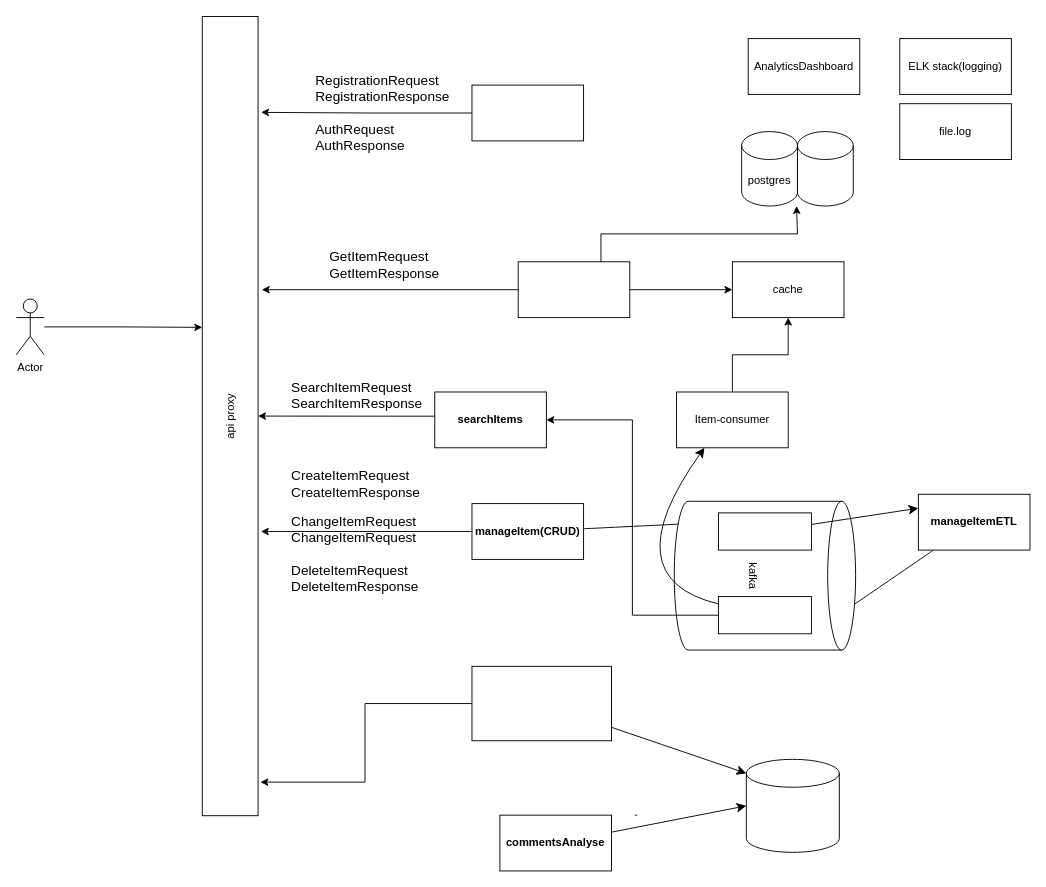
Image size: 1046x887. Some labels were removed from this diagram. The centre of each missing label's shape, as x and y in pixels:
auth: [527,112]
item: [573,289]
manageComment(CRUD): [541,703]
minio: [825,168]
postgres (comments): [792,805]
Topic 1: [764,531]
Topic 2 (2 consumer groups): [764,615]
